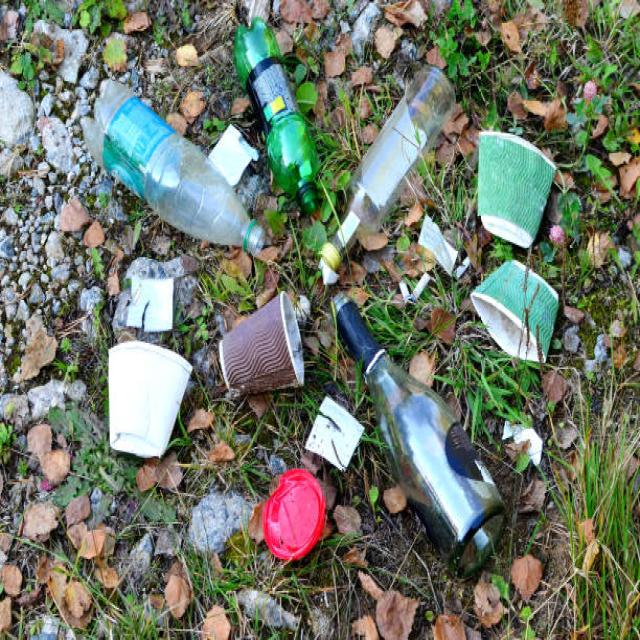cardboard: (103, 312, 302, 418)
plastic: (64, 55, 320, 262)
